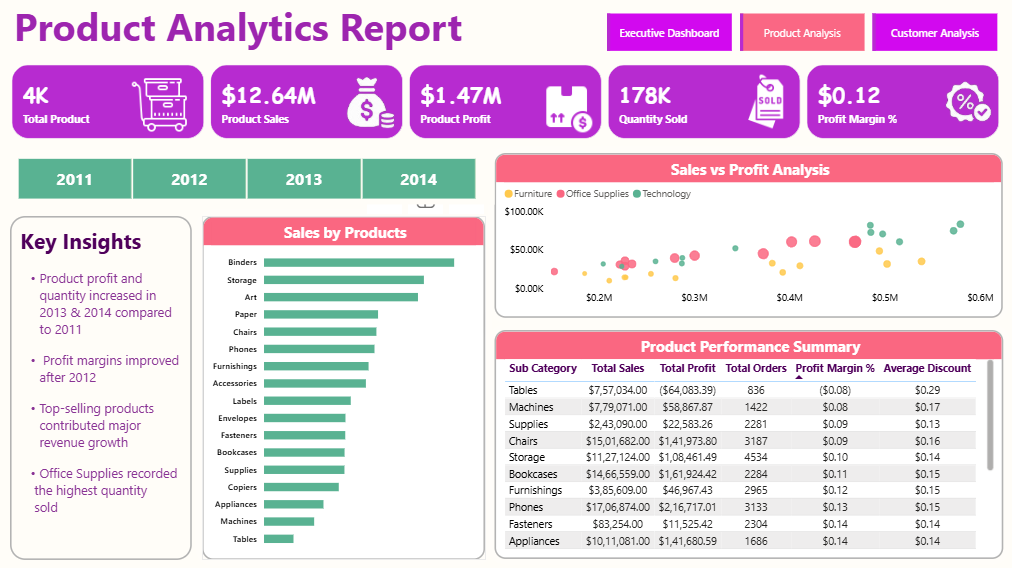

Layout of this report page (visuals, bound fields, positions):
{"tool":"powerbi","page":{"name":"Product Analysis ","canvas":[1280,720],"ordinal":1},"visuals":[{"type":"cardVisual","fields":{"Data":["Sales Data.Total Product","Sales Data.total sales","Sales Data.total profit","Sales Data.total quantity","Sales Data.Profit Margin %"]},"box":[0,64.6,1280.5,127.5],"z":0},{"type":"barChart","title":"Sales by Products","fields":{"Y":["Sales Data.Total Orders"],"Category":["Sales Data.sub_category"]},"box":[256.8,271.7,356.1,432.3],"z":1000},{"type":"scatterChart","title":"Sales vs Profit Analysis","fields":{"Series":["Sales Data.category"],"Category":["Calander Table.Month"],"X":["Sales Data.total sales"],"Y":["Sales Data.total profit"],"Size":["Sales Data.total quantity"]},"box":[624.5,192.2,639.4,207.1],"z":2000},{"type":"tableEx","title":"Product Performance Summary","fields":{"Values":["Sales Data.sub_category","Sales Data.total sales","Sales Data.total profit","Sales Data.Total Orders","Sales Data.Profit Margin %","Sales Data.Average Discount"]},"box":[624,416,640,288],"z":3000},{"type":"slicer","fields":{"Values":["Calander Table.year"]},"box":[0,192.2,624.5,64.6],"z":4000},{"type":"textbox","title":"Product Analytics Report","box":[14.3,0,600,64.3],"z":5000},{"type":"image","box":[369.4,82.8,177.2,81.2],"z":6000},{"type":"image","box":[1157.9,74.5,122.6,97.7],"z":7000},{"type":"image","box":[927.6,82.8,74.5,89.4],"z":8000},{"type":"image","box":[162.3,96.1,81.2,69.6],"z":9000},{"type":"image","box":[639.4,101,150.7,64.6],"z":10000},{"type":"pageNavigator","box":[766.7,16.7,492.9,47.6],"z":11000},{"type":"textbox","box":[15.1,272.1,228.7,432.8],"z":12000}]}

Visuals, with their boxes in screenshot pixels (x1, y1, x2, y2), scaled from the page's 1280x720 canvas onto the 1012x568 screenshot:
cardVisual - Sales Data.Total Product x Sales Data.total sales: detection(0, 51, 1011, 152)
"Sales by Products" barChart: detection(203, 214, 485, 555)
"Sales vs Profit Analysis" scatterChart: detection(494, 152, 999, 315)
"Product Performance Summary" tableEx: detection(493, 328, 999, 555)
slicer - Calander Table.year: detection(0, 152, 494, 203)
"Product Analytics Report" textbox: detection(11, 0, 486, 51)
image: detection(292, 65, 432, 129)
image: detection(915, 59, 1011, 136)
image: detection(733, 65, 792, 136)
image: detection(128, 76, 193, 131)
image: detection(506, 80, 625, 131)
pageNavigator: detection(606, 13, 996, 51)
textbox: detection(12, 215, 193, 556)
